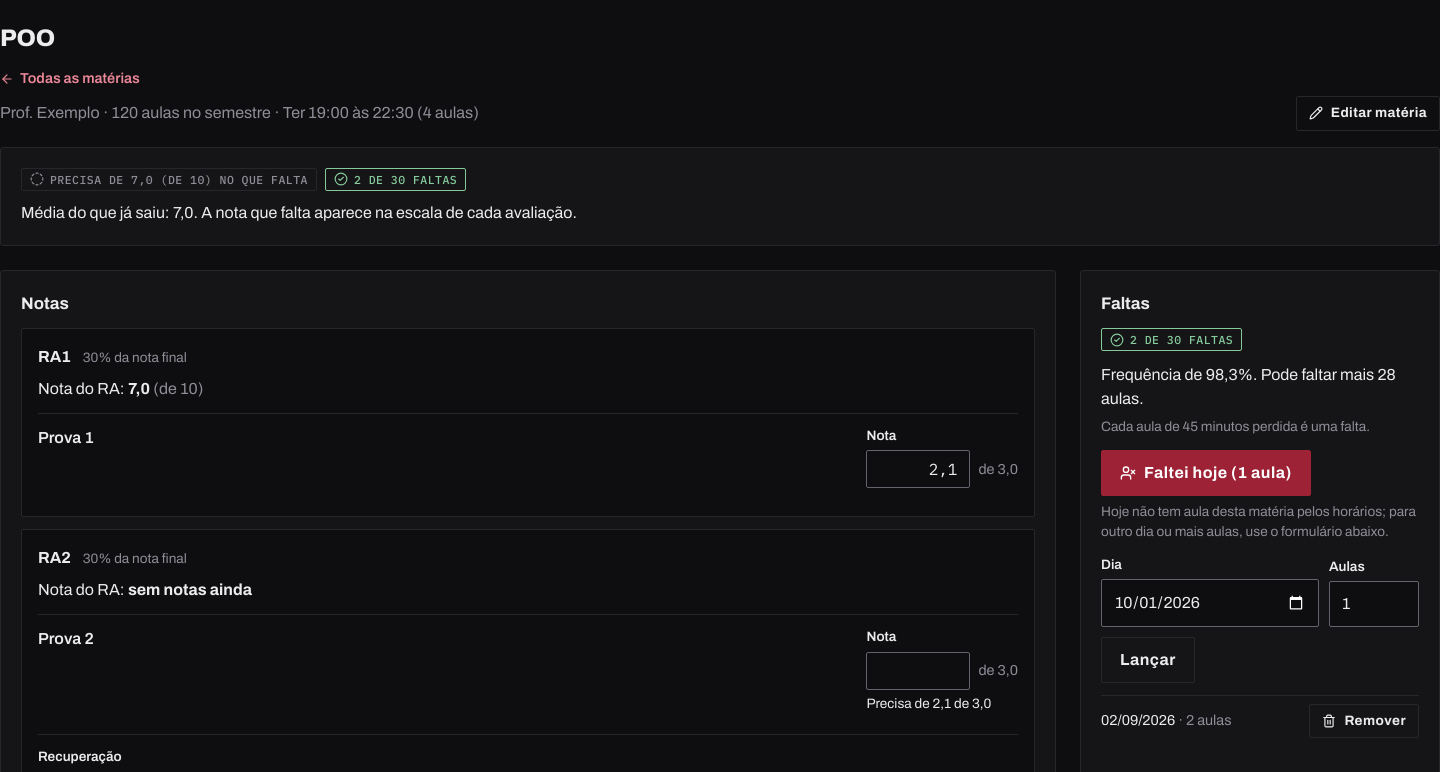
Scenario: TelaMateria › avisa o erro da nota mesmo saindo do campo com Tab
Type "12" into the field named "Nota de Prova 2" at [918, 671], box [866, 652, 970, 690]
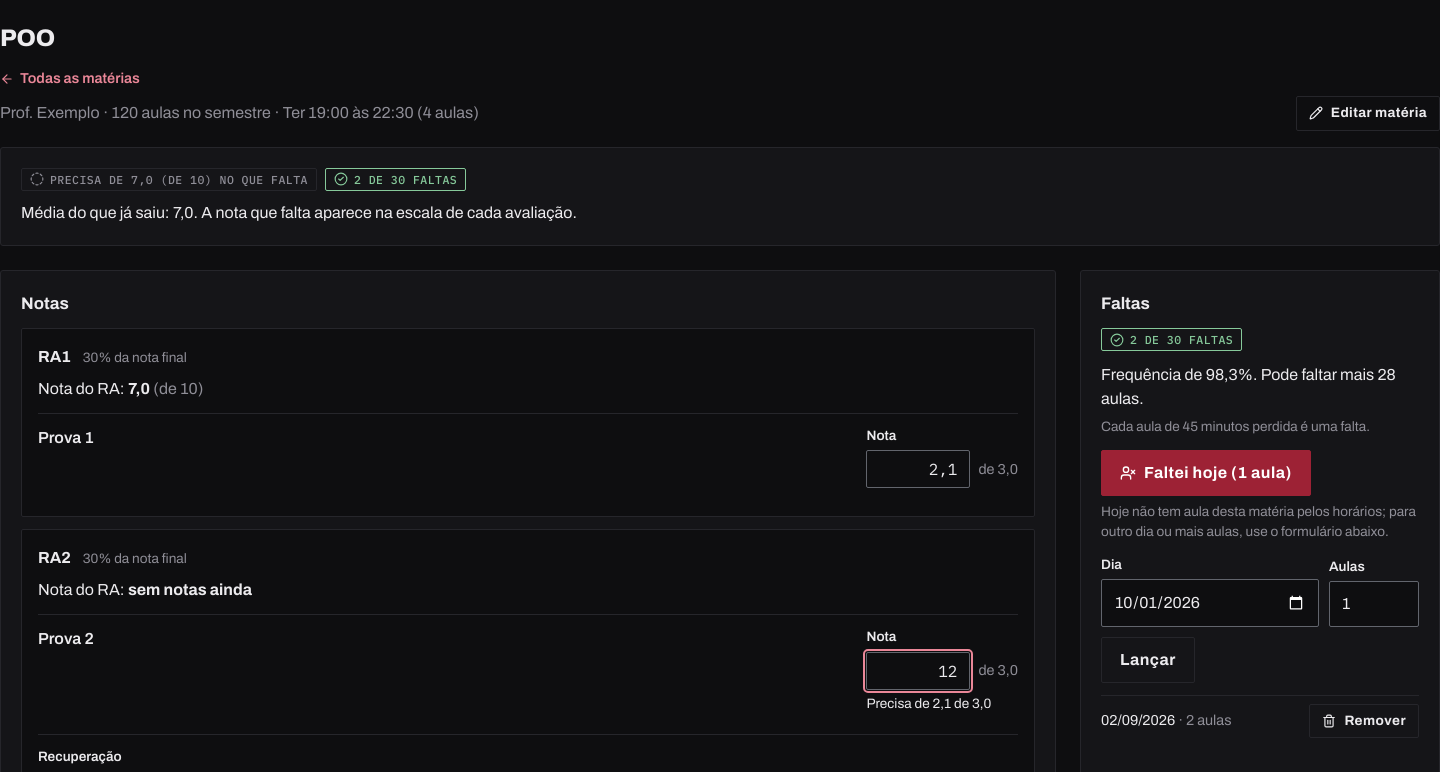
Press Tab
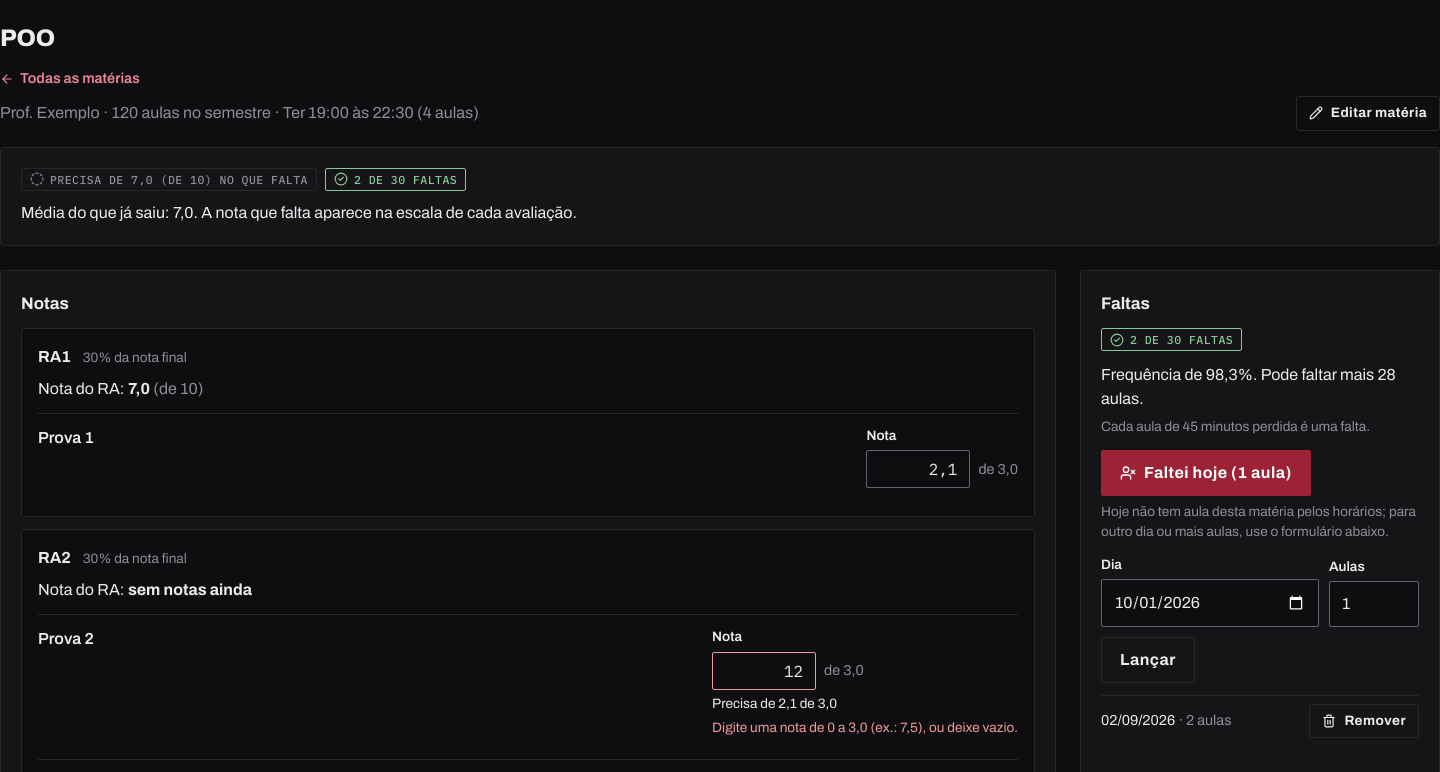
Check: the message shows "Digite uma nota de 0 a 3,0", box [712, 720, 1018, 735]
